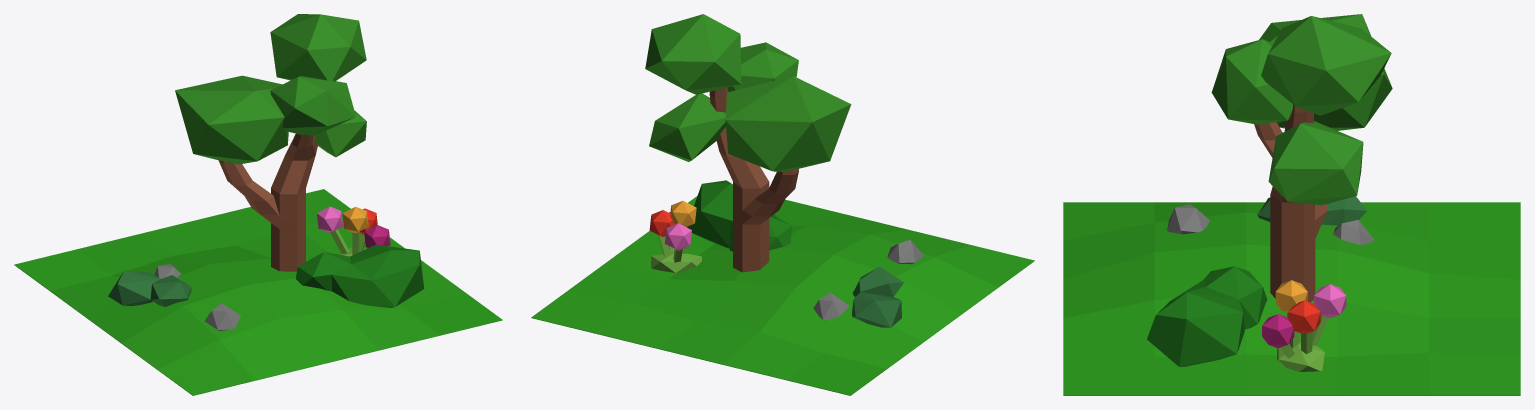
The model's file is test_field_tree(1).fbx.
3 renders of one model, left to right at view 1: azimuth 30°, elevation 25°; view 2: azimuth 150°, elevation 25°; view 3: azimuth 270°, elevation 25°, orthographic. The views are drawn at different scales.
Parts seen in each view (by area): view 1: Cube, Icosphere.003, Icosphere.004, Icosphere.011, Icosphere, Icosphere.007, Icosphere.008, Icosphere.010, Icosphere.006; view 2: Cube, Icosphere.003, Icosphere.004, Icosphere.011, Icosphere.010, Icosphere.001, Icosphere, Icosphere.008, Icosphere.007, Icosphere.009; view 3: Cube, Icosphere.003, Icosphere.004, Icosphere.010, Icosphere.011, Icosphere, Icosphere.006, Icosphere.008, Icosphere.009, Icosphere.007, Icosphere.001.
Part boxes in pixels (x1,y1,x2,y2): Cube: [14, 189, 502, 395]; Icosphere.003: [175, 14, 366, 271]; Icosphere.004: [296, 244, 424, 307]; Icosphere.011: [108, 270, 191, 306]; Icosphere: [204, 303, 240, 331]; Icosphere.007: [342, 206, 368, 233]; Icosphere.008: [317, 206, 343, 232]; Icosphere.010: [330, 229, 367, 256]; Icosphere.006: [364, 225, 390, 247]; Cube: [531, 196, 1034, 395]; Icosphere.003: [645, 14, 851, 272]; Icosphere.004: [687, 180, 791, 251]; Icosphere.011: [852, 266, 903, 327]; Icosphere.010: [651, 235, 701, 273]; Icosphere.001: [813, 292, 849, 320]; Icosphere: [887, 240, 923, 264]; Icosphere.008: [664, 223, 691, 250]; Icosphere.007: [670, 201, 696, 226]; Icosphere.009: [649, 210, 674, 236]; Cube: [1063, 202, 1520, 395]; Icosphere.003: [1211, 14, 1392, 302]; Icosphere.004: [1147, 266, 1267, 366]; Icosphere.010: [1277, 313, 1328, 371]; Icosphere.011: [1257, 196, 1366, 225]; Icosphere: [1167, 204, 1209, 234]; Icosphere.006: [1262, 314, 1294, 348]; Icosphere.008: [1314, 284, 1346, 318]; Icosphere.009: [1288, 300, 1320, 333]; Icosphere.007: [1275, 280, 1307, 312]; Icosphere.001: [1333, 219, 1374, 244].
Size of the model in its own units: 400 by 331 by 400.
